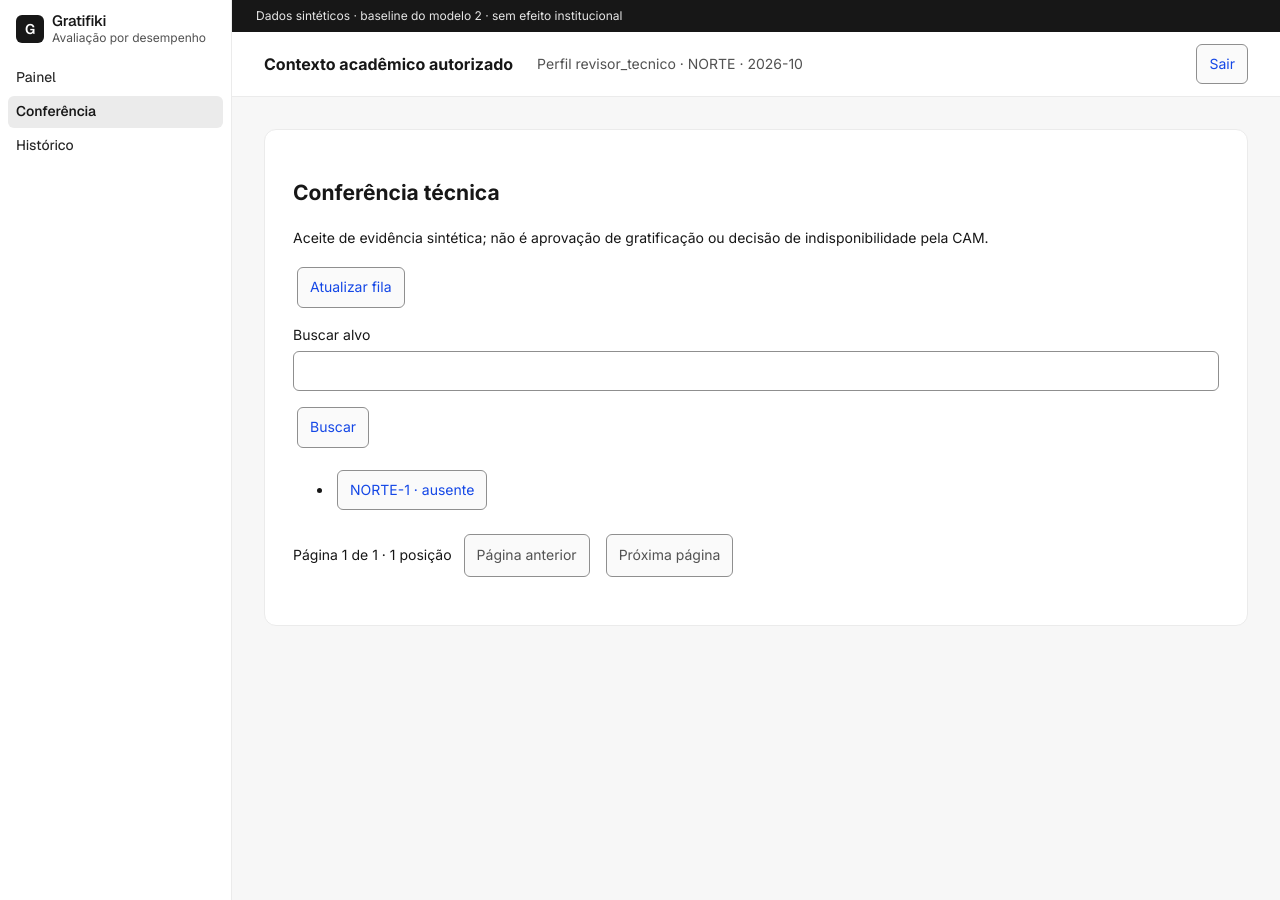
Test case: does not describe absent evidence as a pending CAM unavailability decision
Click the button "NORTE-1 · ausente" at coordinates (412, 490), box [337,470,487,510]
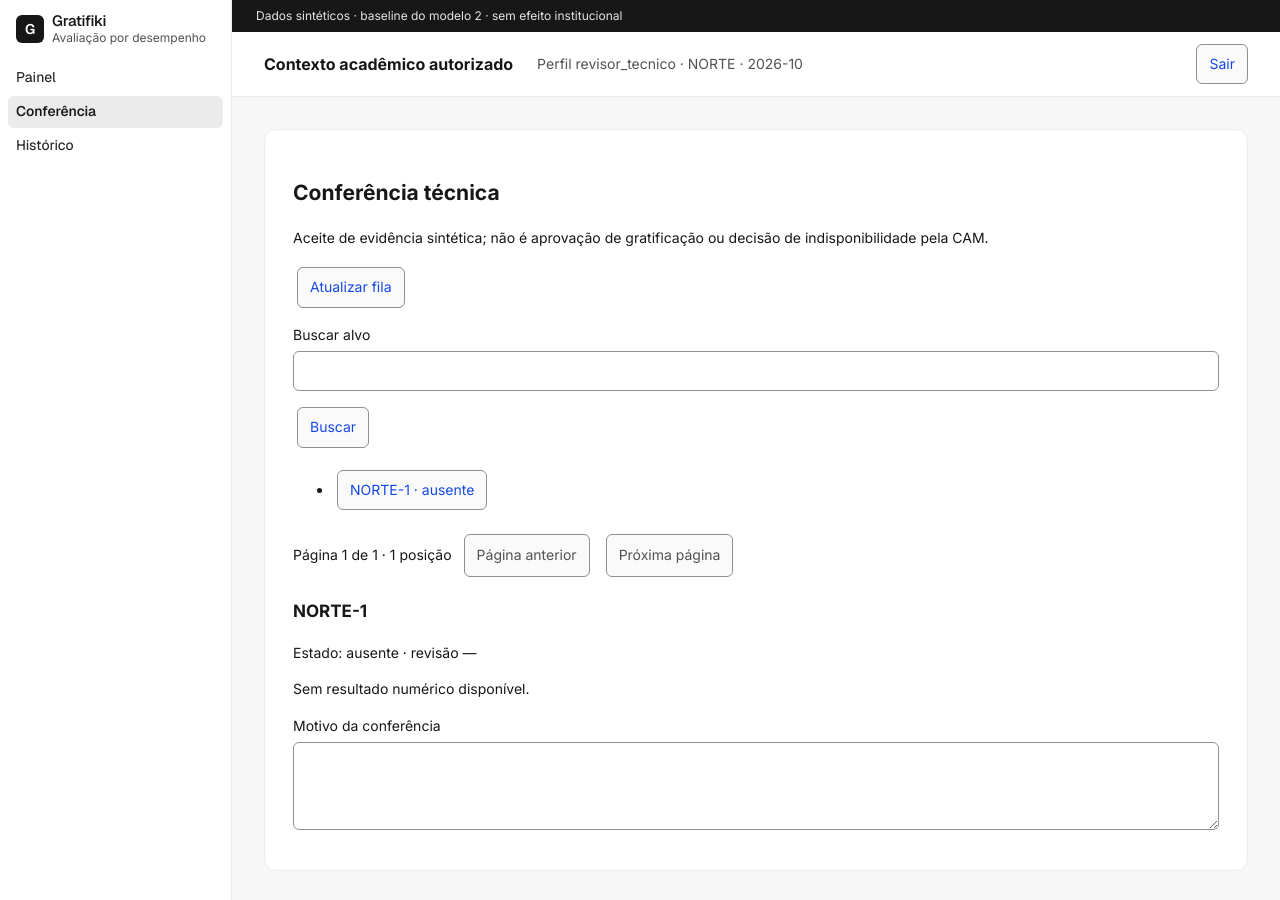
Check: the heading "NORTE-1" is shown, box [293,601,367,621]
